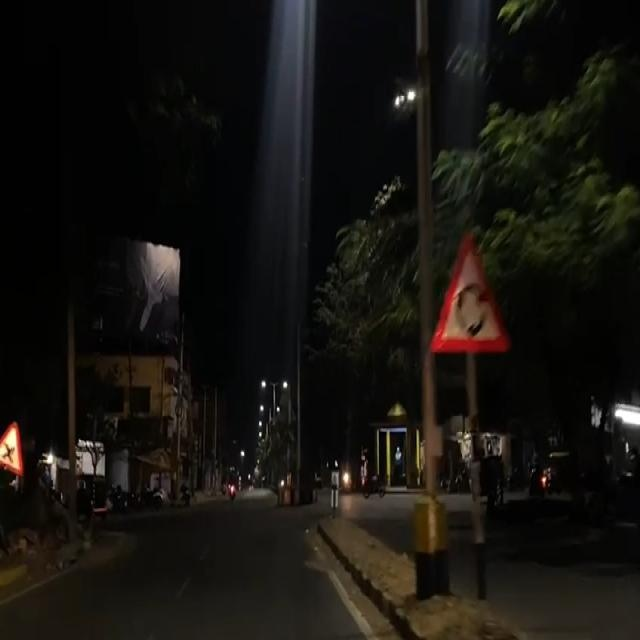bien_nguy_hiem: (424, 220, 510, 358), (0, 408, 31, 478)
